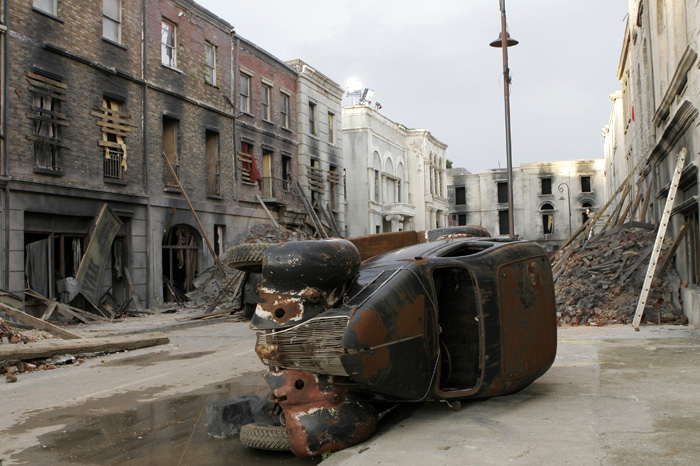sky: (515, 1, 604, 161), (354, 28, 487, 95), (232, 3, 487, 36), (393, 56, 499, 125), (450, 119, 502, 162)
water: (69, 412, 216, 466)
